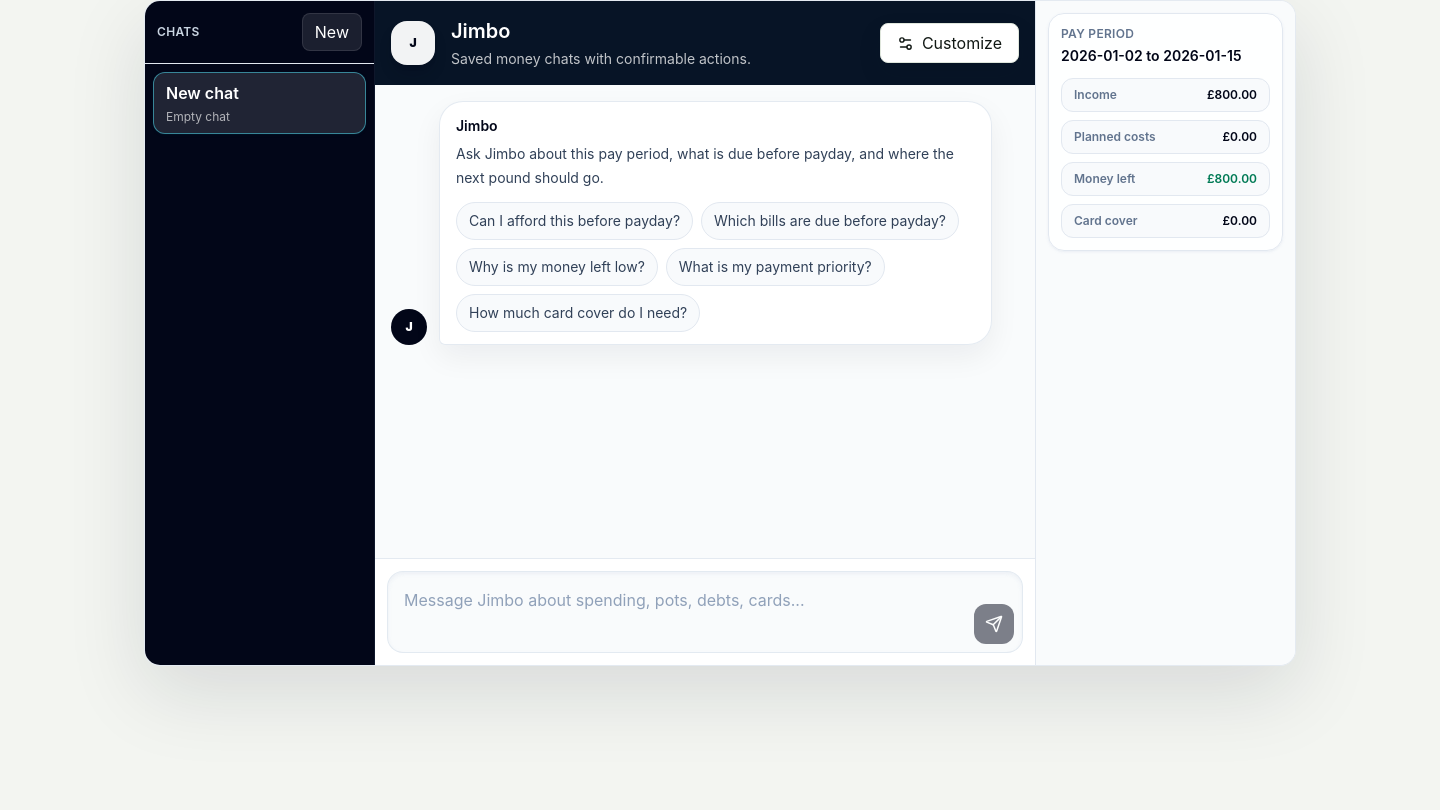
Test case: AI page › sends any user question to the assistant endpoint and shows the answer
Type "Can I afford my cards this month?" into the text box labelled "Message Jimbo".
click(681, 612); type("Can I afford my cards this month?")  # box 396,580 -> 966,644
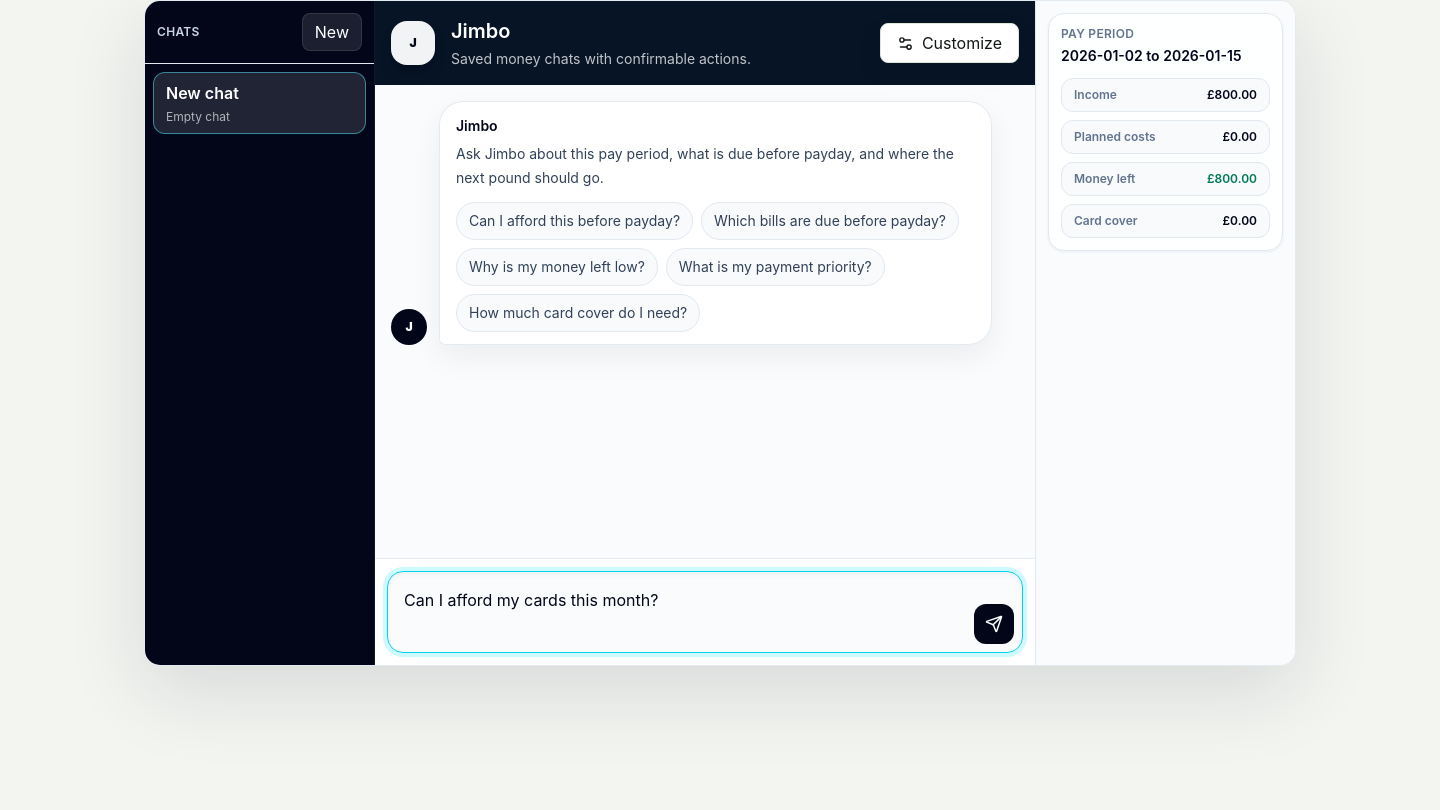
Click the button named "Send message".
click(994, 624)  # box 974,604 -> 1014,644
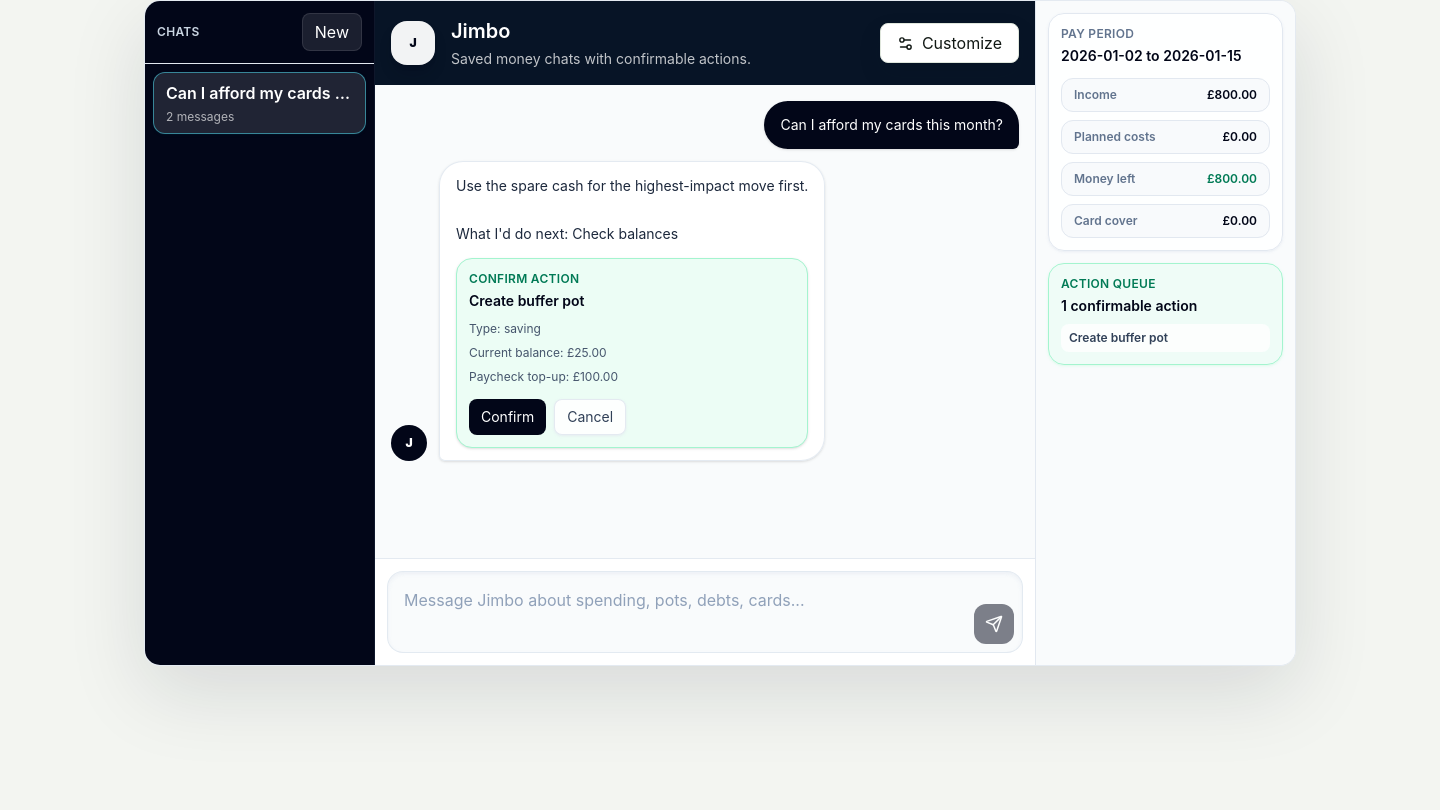
Now the text "Use the spare cash for the highest-impact move first" is shown, box 456,177 -> 808,242
Now the text "Action queue" is shown, box 1061,276 -> 1156,291
Now the text "Create buffer pot" below "Confirm action" is shown, box 469,292 -> 584,309
